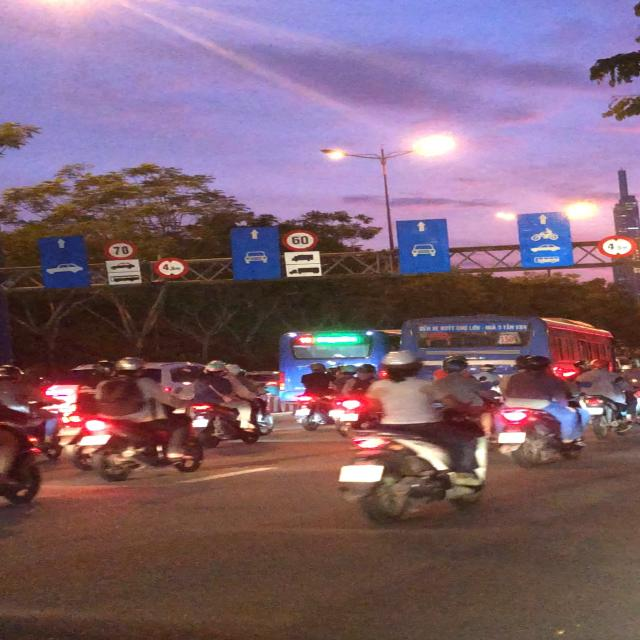Bien bao han che chieu cao: (594, 234, 638, 260), (152, 255, 188, 278)
Bien bao toc do toi da cho phep: (278, 227, 322, 252), (102, 238, 143, 261)
